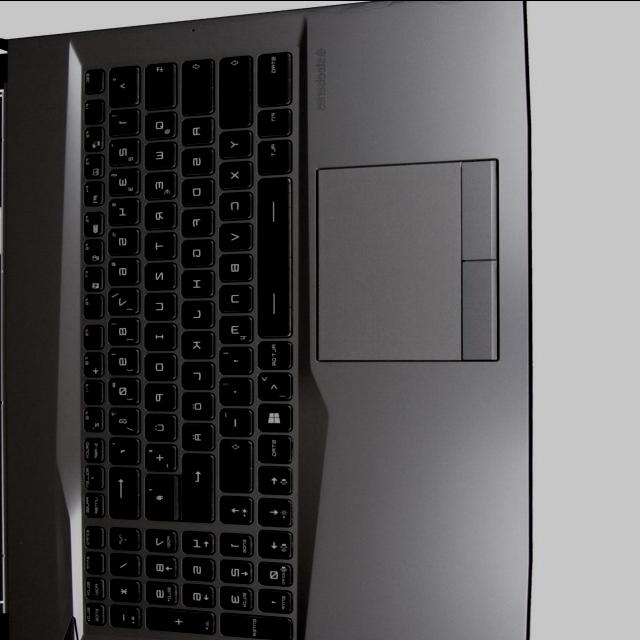0: (105, 375, 137, 402)
1: (105, 106, 137, 133)
2: (105, 136, 137, 163)
3: (105, 166, 137, 193)
4: (105, 196, 137, 223)
5: (105, 226, 137, 252)
6: (105, 255, 137, 283)
7: (105, 286, 137, 313)
8: (105, 315, 137, 343)
9: (105, 346, 137, 373)
a: (177, 115, 211, 143)
accent: (105, 436, 137, 462)
ae: (178, 421, 212, 449)
alt-left: (254, 137, 290, 173)
altgr-right: (254, 338, 290, 368)
b: (214, 250, 250, 280)
c: (216, 189, 250, 218)
caret: (105, 63, 137, 104)
comma: (216, 344, 250, 372)
d: (178, 176, 212, 204)
del: (105, 465, 137, 517)
e: (141, 169, 175, 197)
enter: (177, 451, 211, 519)
f: (177, 206, 211, 234)
g: (177, 237, 211, 265)
h: (177, 267, 211, 295)
hash: (144, 473, 176, 520)
i: (140, 321, 174, 349)
j: (178, 298, 212, 326)
k: (177, 329, 211, 357)
keyboard: (65, 35, 305, 640)
l: (177, 359, 211, 387)
less: (255, 370, 291, 400)
m: (214, 313, 250, 342)
minus: (216, 405, 250, 434)
n: (214, 282, 250, 311)
o: (140, 351, 174, 379)
oe: (178, 390, 212, 418)
p: (141, 381, 173, 408)
plus: (140, 441, 174, 469)
point: (216, 375, 250, 403)
q: (140, 109, 174, 137)
r: (140, 199, 174, 227)
s: (178, 145, 212, 173)
shift-left: (214, 53, 250, 126)
shift-lock: (177, 57, 211, 113)
shift-right: (214, 437, 250, 491)
space: (254, 173, 290, 337)
ss: (105, 406, 137, 432)
strg-left: (254, 50, 290, 105)
strg-right: (254, 433, 290, 463)
t: (140, 230, 174, 257)
tab: (141, 60, 173, 108)
u: (140, 290, 174, 318)
ue: (140, 411, 174, 439)
v: (214, 220, 250, 249)
w: (140, 139, 174, 167)
x: (216, 159, 250, 188)
y: (216, 127, 250, 156)
z: (140, 260, 174, 288)
